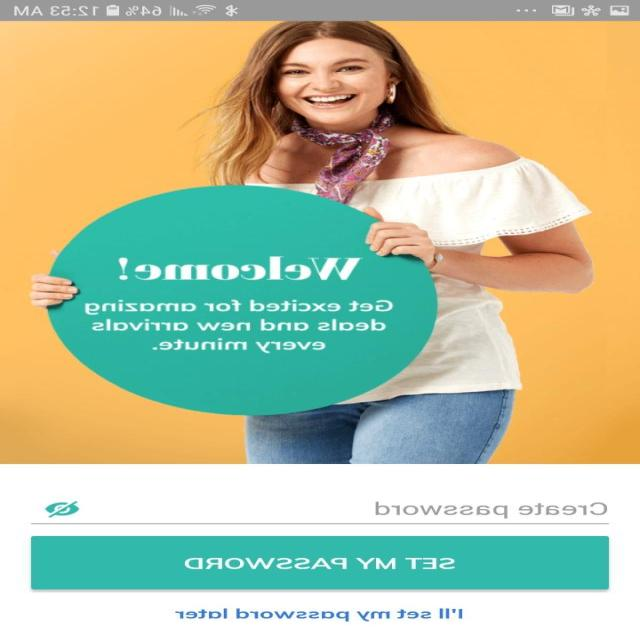EditText: (32, 500, 610, 524)
Icon: (45, 500, 80, 517)
Image: (1, 21, 640, 464)
Text: (85, 298, 395, 352), (120, 254, 364, 280), (376, 501, 608, 519), (175, 608, 463, 622)
TextButton: (31, 536, 609, 590)
